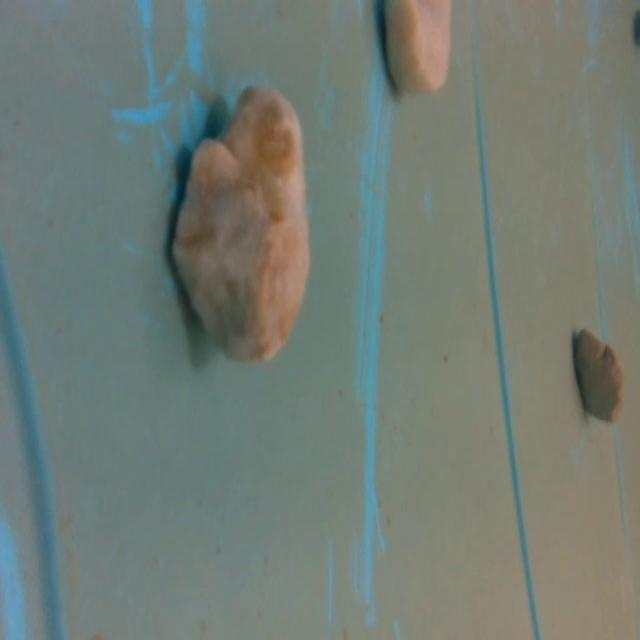rock: (166, 78, 314, 372), (376, 0, 456, 99), (570, 319, 629, 430)
